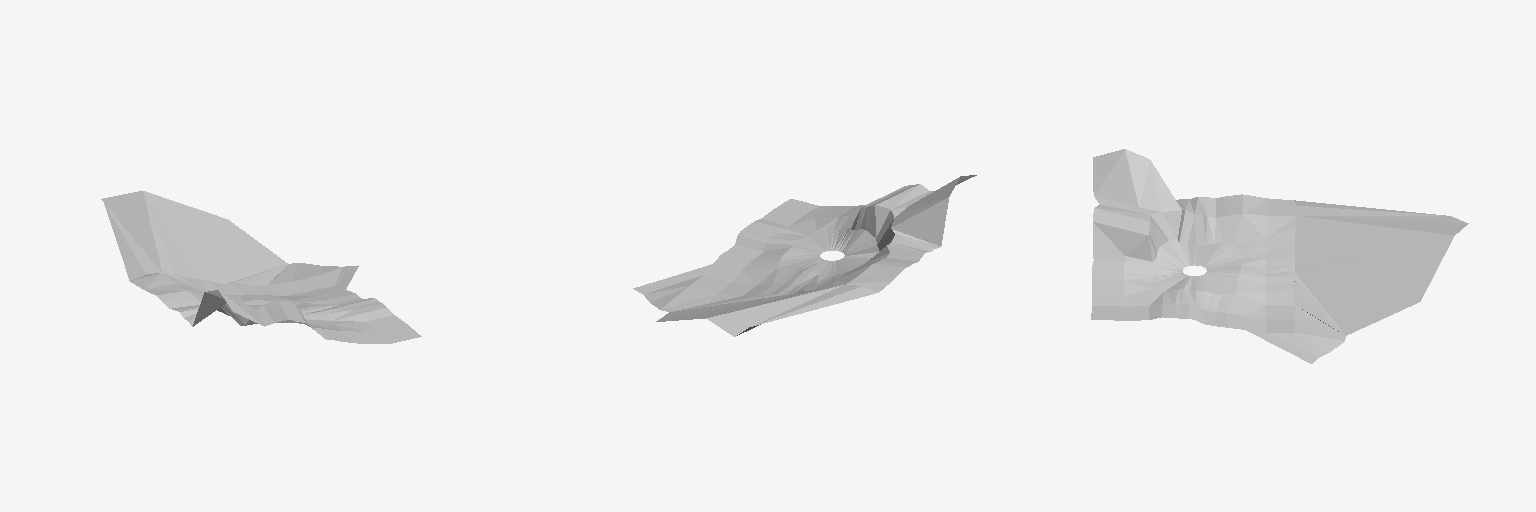
The model's file is cult_exit_landing.obj.
3 renders of one model, left to right at view 1: azimuth 30°, elevation 25°; view 2: azimuth 150°, elevation 25°; view 3: azimuth 270°, elevation 25°, orthographic.
Visible parts, largest first — view 1: landing_Mesh; view 2: landing_Mesh; view 3: landing_Mesh.
Part boxes in pixels (bbox=[...]): landing_Mesh: bbox=[101, 191, 421, 343]; landing_Mesh: bbox=[633, 175, 976, 336]; landing_Mesh: bbox=[1091, 149, 1468, 363].
Size of the model in its own units: 178 by 72.71 by 244.